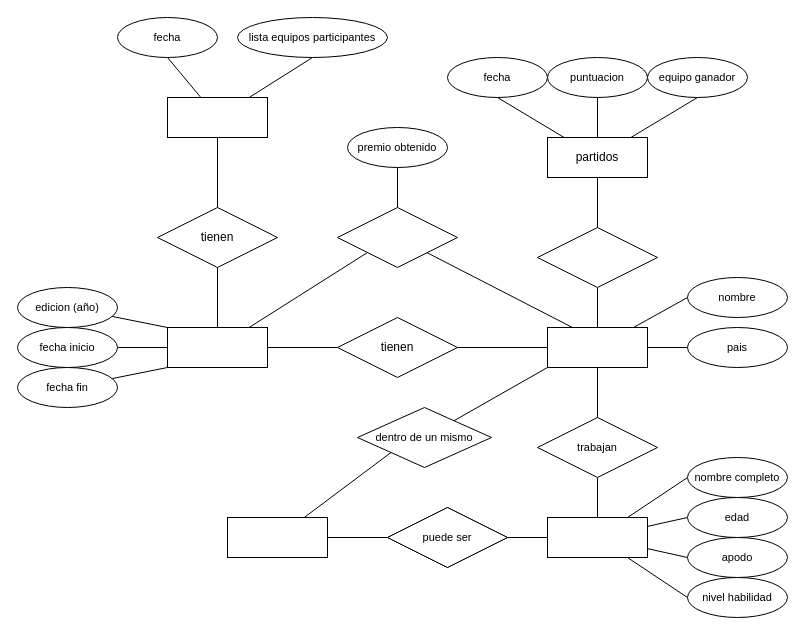
The diagram is 805 pixels wide and 635 high, and some of its shapes have lost their labels. Each missing label, with the centre of its shape:
coach: the point at 277,537
equipo: the point at 597,347
gana: the point at 397,237
juegan: the point at 597,257
jugadores: the point at 597,537
rondas: the point at 217,117
torneo: the point at 217,347
